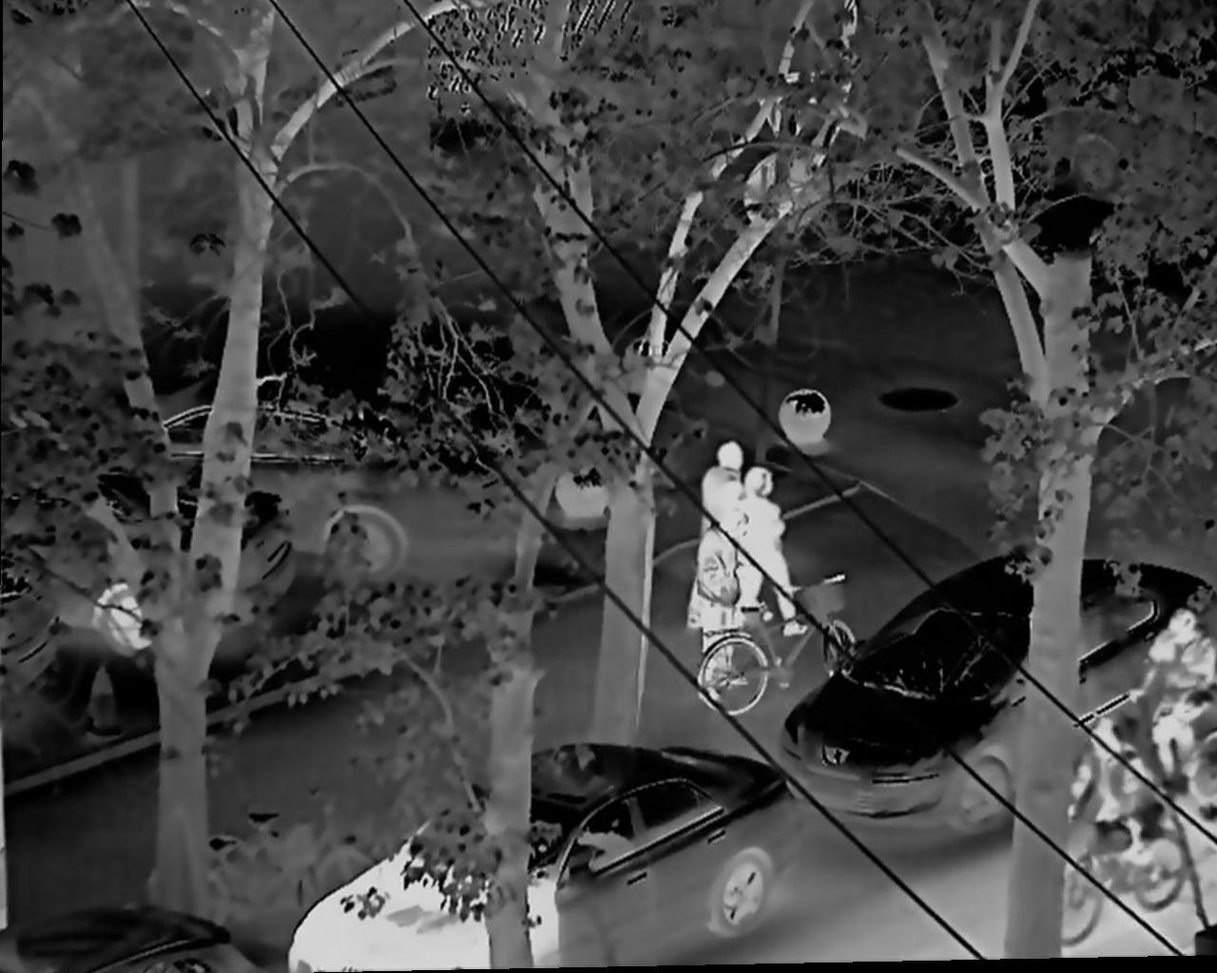person: (1130, 607, 1217, 784), (743, 466, 807, 639), (697, 506, 750, 689), (1073, 719, 1139, 860), (704, 442, 744, 536)
